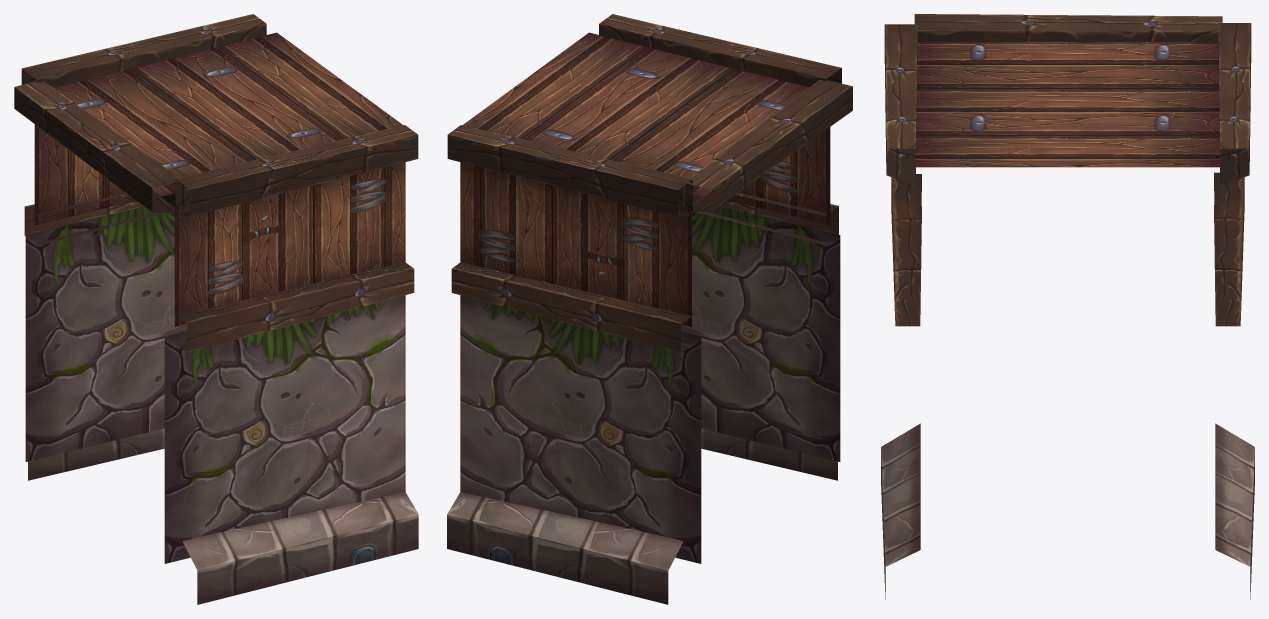
Rendered from big_wall_tile_02.fbx.
3 views of the same model, side by side, from view 1: azimuth 30°, elevation 25°; view 2: azimuth 150°, elevation 25°; view 3: azimuth 270°, elevation 25° (orthographic). The views are drawn at different scales.
Parts seen in each view (by area): view 1: big_wall_tile_02; view 2: big_wall_tile_02; view 3: big_wall_tile_02.
Boxes of the visible parts, x1,y1,x2,y2 form: big_wall_tile_02: (14,14,418,604); big_wall_tile_02: (447,14,852,604); big_wall_tile_02: (881,14,1254,599).
Bounding box in the file's own units: 6.25 × 9.41 × 6.97.
